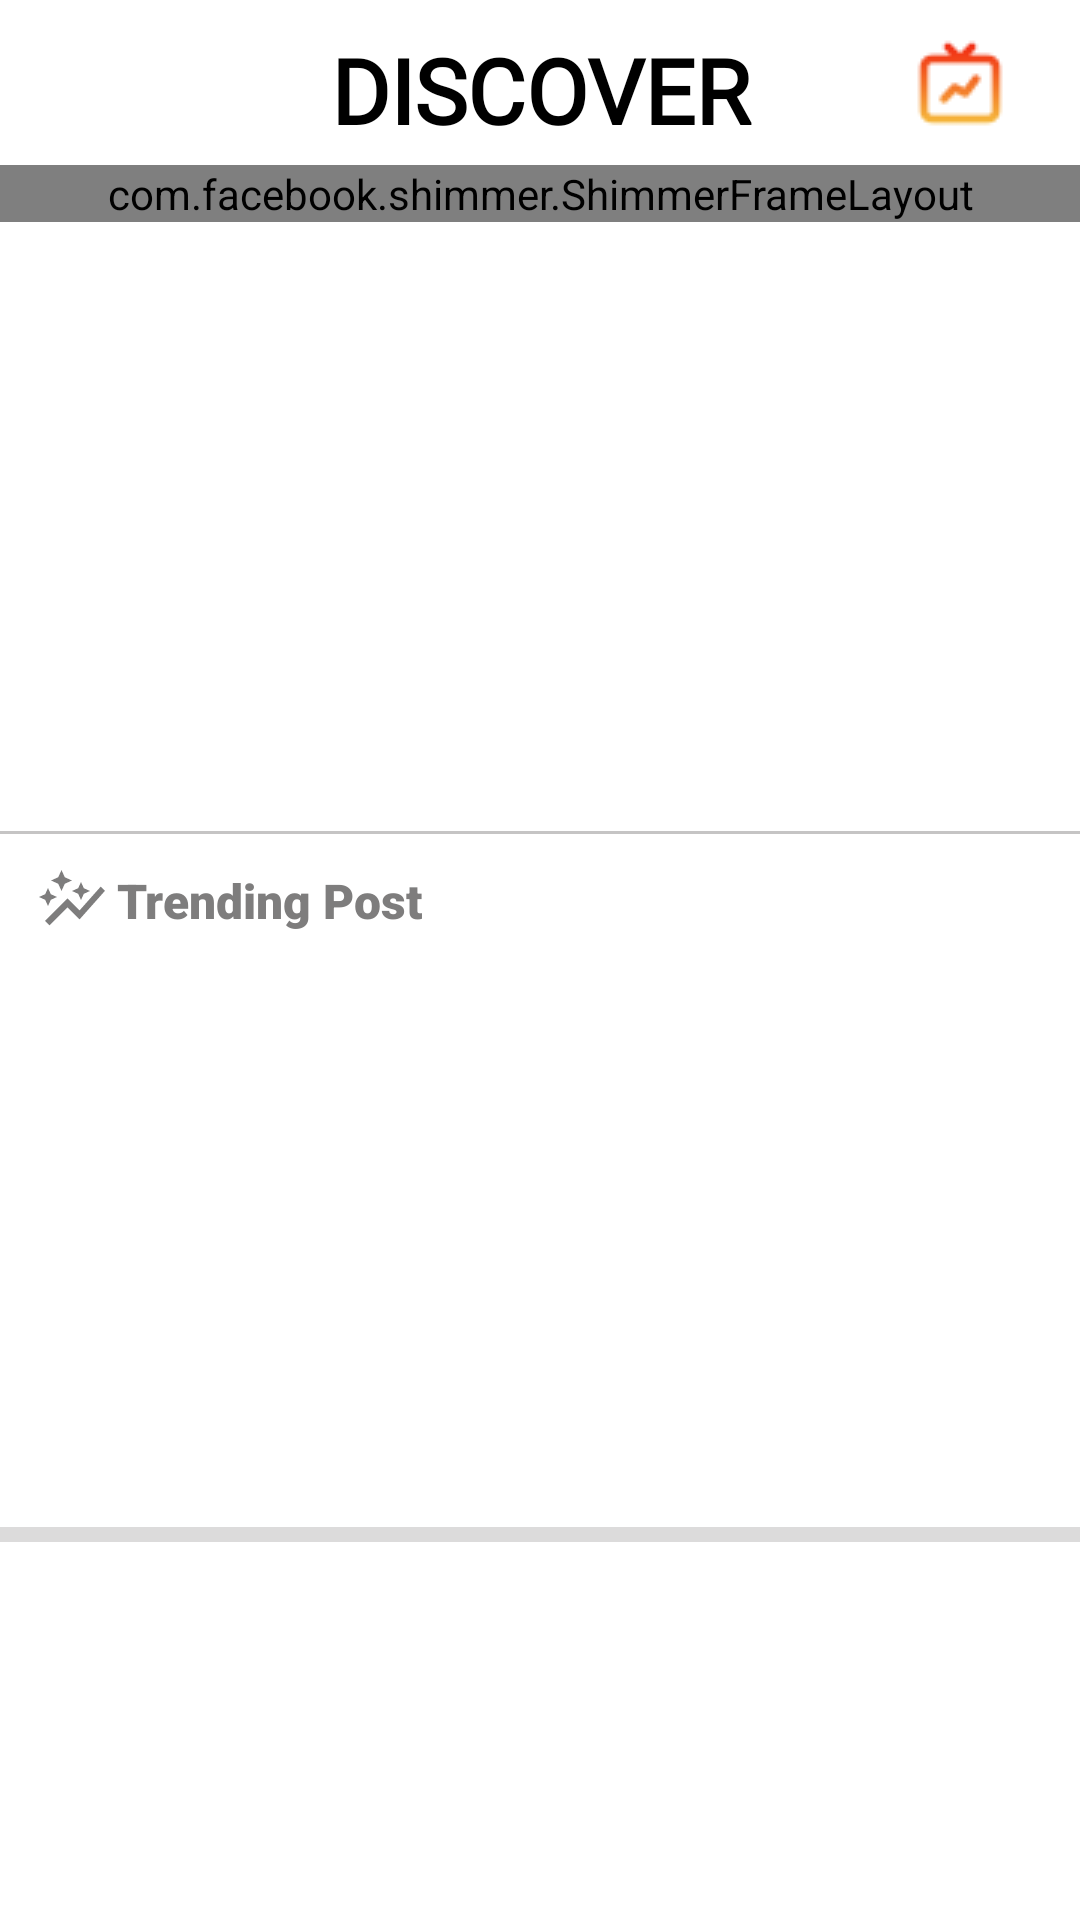

Named icons in this screenshot (1080 × 1920) and their centers, point (x, y):
increase: point (72, 897)
